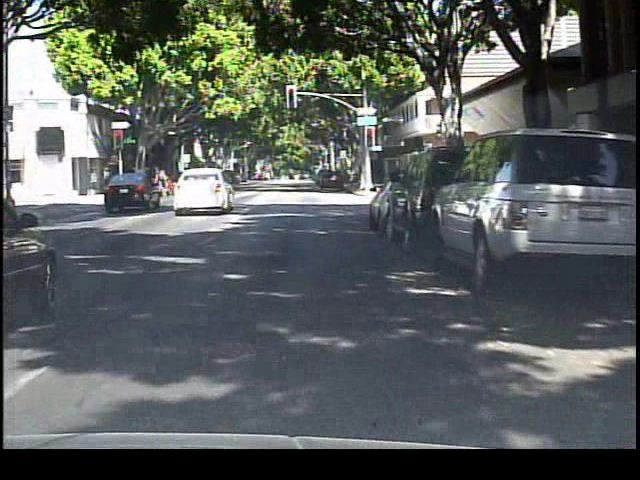person: (156, 163, 174, 201)
